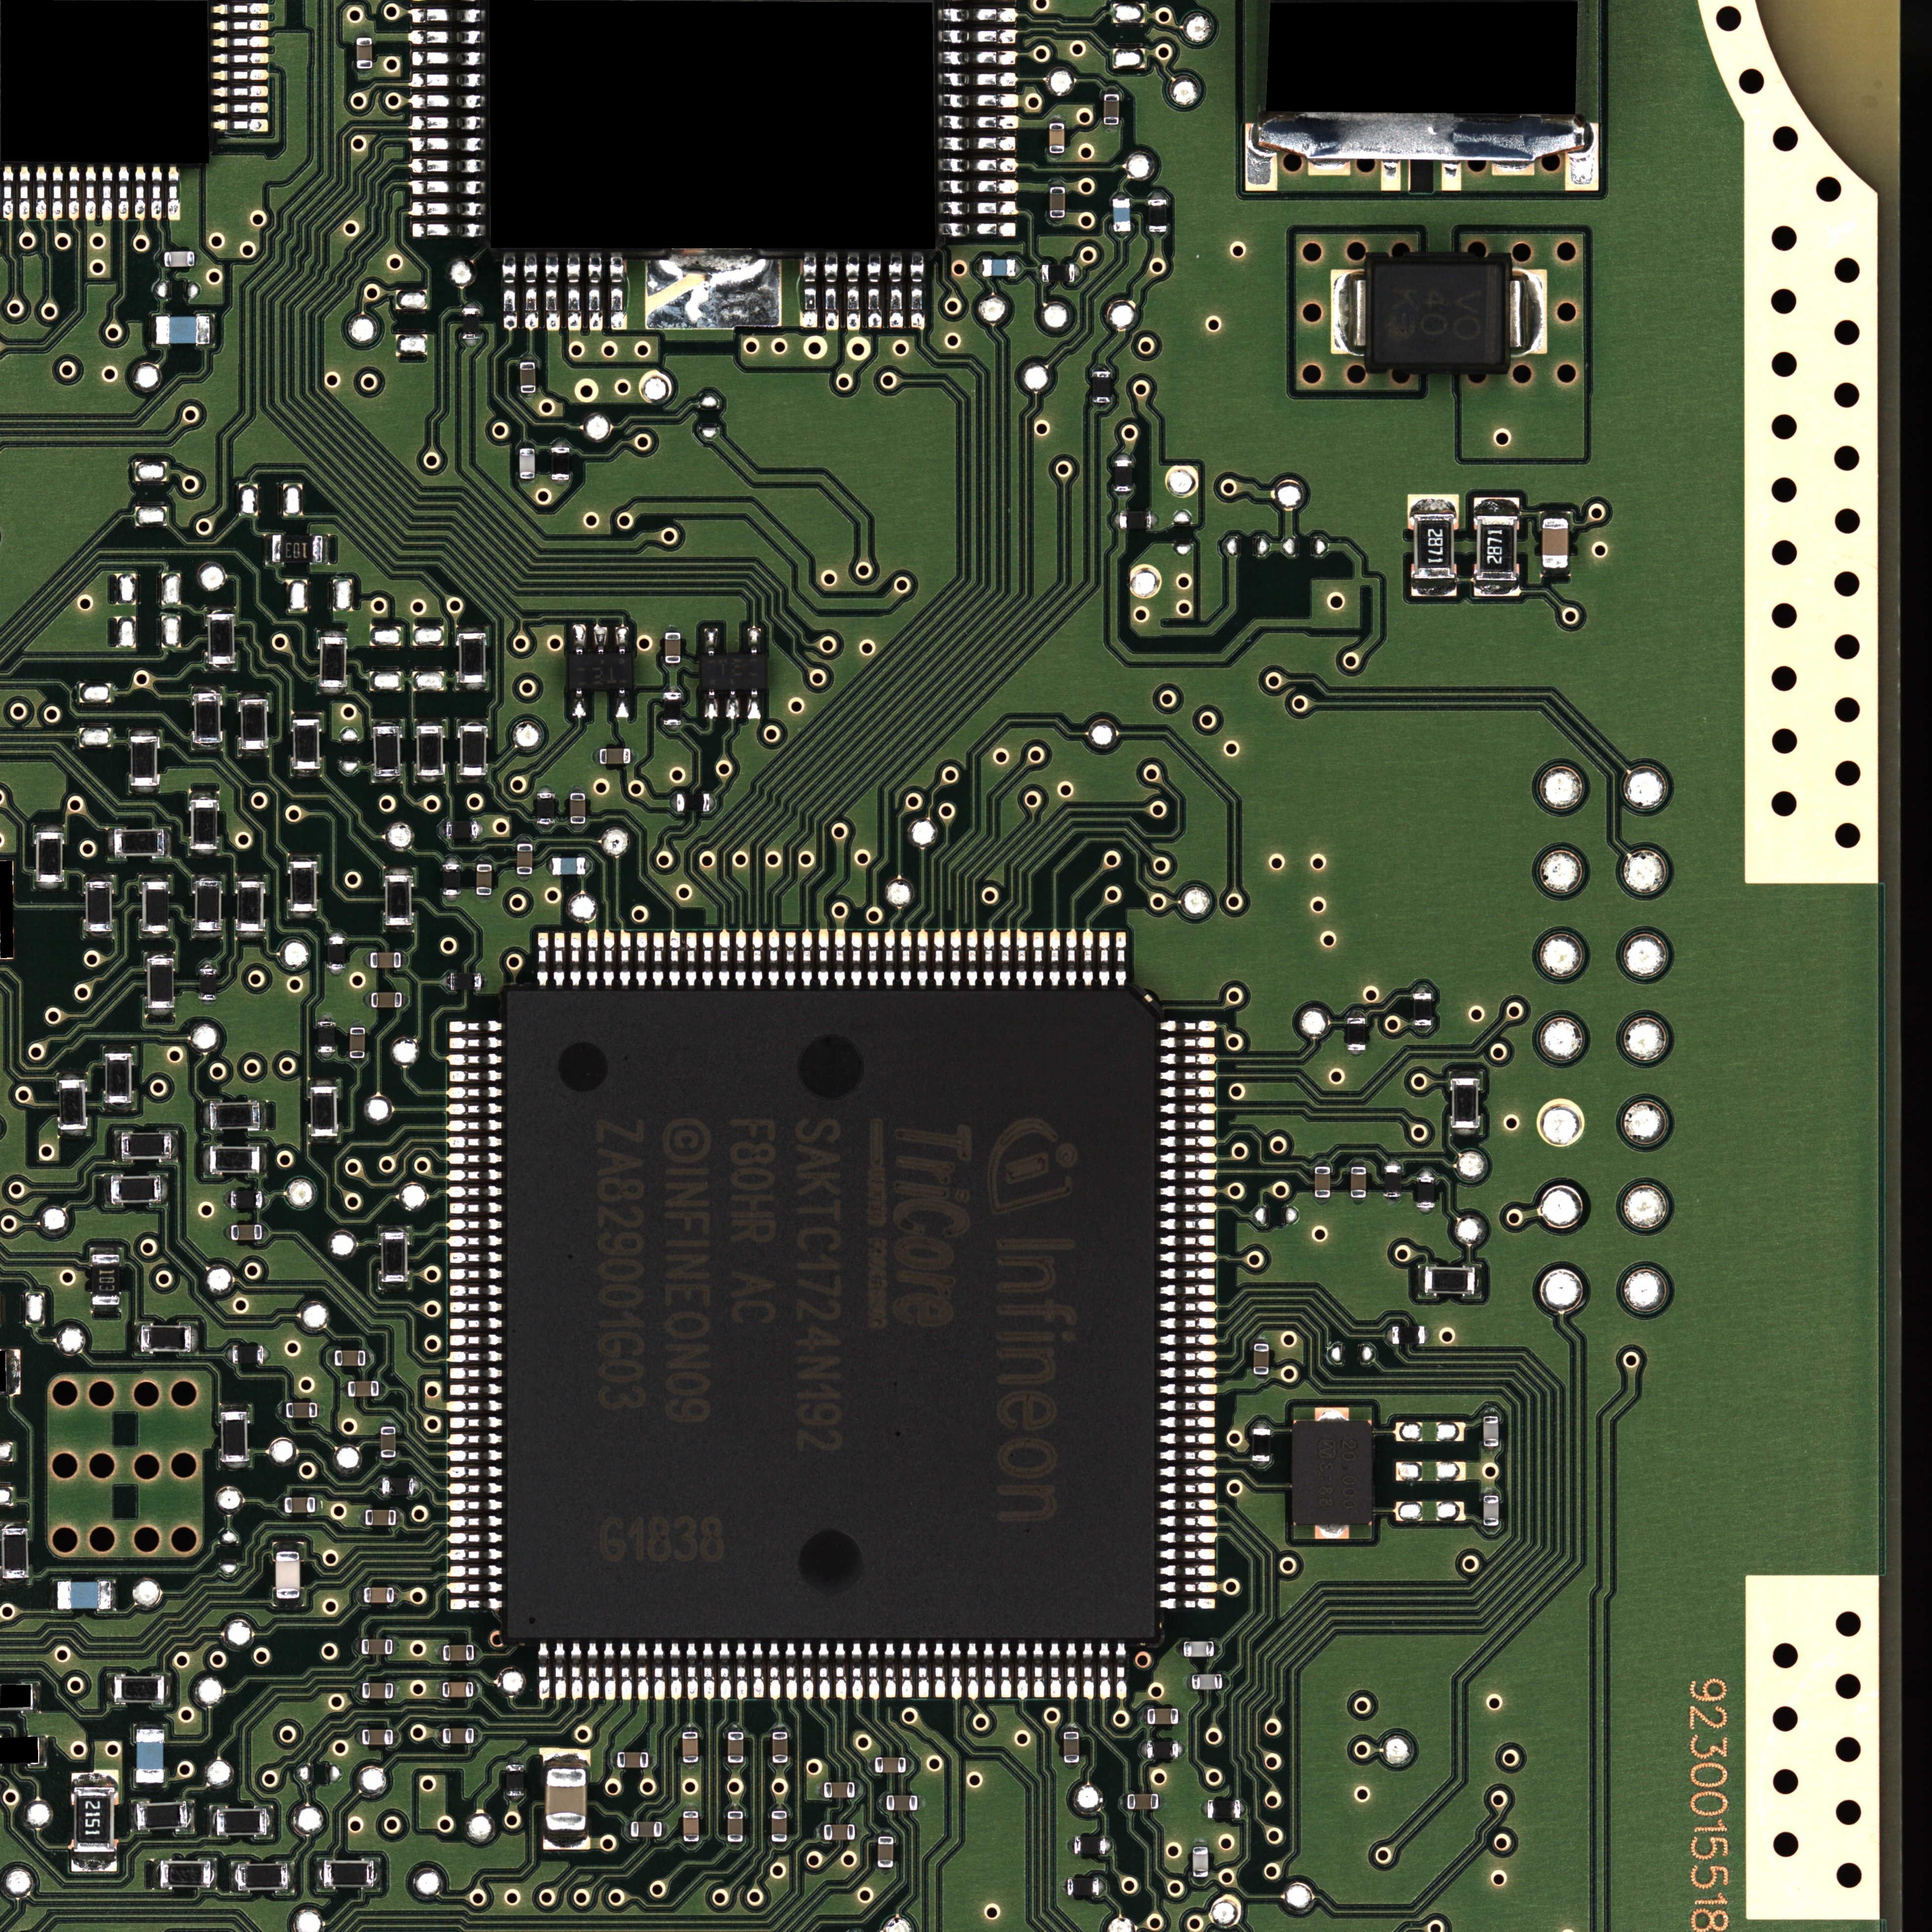Package: (501, 985, 1159, 1644), (1373, 264, 1502, 363), (1292, 1419, 1373, 1523), (1412, 513, 1454, 579), (74, 1787, 115, 1852), (1476, 517, 1516, 580), (545, 1769, 586, 1829), (701, 655, 766, 690), (568, 653, 632, 688), (156, 315, 209, 343), (1424, 1267, 1474, 1295), (58, 1582, 110, 1608), (136, 1730, 163, 1782), (115, 830, 165, 856), (272, 536, 322, 563), (320, 637, 347, 686), (460, 725, 487, 775), (131, 736, 157, 786), (373, 727, 400, 777), (221, 1412, 248, 1461), (92, 1254, 119, 1304), (142, 1325, 191, 1352), (2, 1529, 28, 1578), (122, 1132, 170, 1159), (211, 1146, 258, 1173), (138, 1803, 186, 1829), (115, 1675, 163, 1702), (218, 1808, 265, 1835), (211, 1102, 258, 1129), (239, 1863, 287, 1890), (1453, 1079, 1479, 1127), (143, 881, 168, 931), (87, 881, 111, 931), (386, 876, 410, 925), (196, 881, 221, 931), (191, 800, 216, 849), (460, 633, 485, 683), (149, 959, 173, 1008), (418, 725, 442, 775), (294, 720, 318, 770), (195, 694, 219, 743), (242, 699, 267, 748), (209, 614, 234, 663), (111, 1177, 161, 1201), (324, 1861, 373, 1886), (311, 1086, 336, 1136), (60, 1079, 85, 1129), (1543, 518, 1568, 568), (37, 833, 62, 881), (161, 1861, 209, 1886), (106, 1054, 131, 1102), (239, 881, 262, 931), (292, 862, 315, 911), (382, 1233, 405, 1281), (276, 1552, 299, 1598), (1042, 264, 1076, 283), (1092, 370, 1111, 403), (1414, 993, 1433, 1026), (198, 968, 218, 1000), (536, 793, 556, 824), (1148, 200, 1168, 232), (552, 856, 586, 874), (663, 692, 681, 725), (1113, 198, 1131, 232), (982, 258, 1016, 276), (1253, 1428, 1270, 1461), (1348, 1017, 1366, 1051), (327, 938, 345, 970), (678, 794, 709, 812), (552, 448, 570, 479), (446, 821, 478, 839), (462, 308, 479, 340), (449, 973, 481, 991), (382, 1477, 414, 1495), (232, 1346, 264, 1364), (230, 1191, 262, 1208), (1115, 460, 1132, 492), (1208, 1801, 1240, 1819), (1392, 1327, 1424, 1345), (1417, 1177, 1435, 1208), (1384, 1166, 1401, 1198), (1146, 1741, 1178, 1759), (1074, 1836, 1106, 1854), (442, 865, 460, 895), (357, 37, 373, 69), (476, 863, 492, 895), (665, 632, 681, 663), (771, 1810, 787, 1842), (334, 1350, 366, 1366), (442, 1645, 474, 1661), (442, 1729, 474, 1744), (508, 1764, 524, 1796), (318, 1021, 334, 1053), (1120, 513, 1152, 529), (1127, 1794, 1159, 1810), (1067, 1879, 1099, 1895), (600, 748, 630, 764), (517, 844, 533, 874), (165, 251, 195, 267), (520, 363, 536, 393), (370, 952, 400, 968), (372, 993, 402, 1008), (570, 794, 586, 824), (363, 1683, 393, 1698), (683, 1812, 699, 1842), (683, 1732, 699, 1762), (232, 1224, 262, 1240), (727, 1812, 743, 1842), (287, 1403, 317, 1419), (366, 1509, 396, 1525), (876, 1757, 906, 1773), (363, 1638, 393, 1654), (727, 1732, 743, 1762), (824, 1824, 855, 1840), (824, 1782, 855, 1798), (285, 1497, 315, 1513), (380, 1428, 396, 1458), (617, 1752, 648, 1767), (632, 1821, 662, 1836), (878, 1836, 893, 1867), (1049, 188, 1065, 218), (1049, 122, 1065, 152), (1104, 94, 1120, 124), (1192, 1674, 1223, 1690), (1350, 1168, 1366, 1198), (1184, 1642, 1214, 1658), (1063, 1732, 1079, 1762), (1483, 1495, 1499, 1525), (1483, 1415, 1499, 1445), (1192, 1847, 1208, 1877), (1148, 1709, 1178, 1725), (1315, 1168, 1330, 1198), (364, 1587, 393, 1603), (1254, 1343, 1269, 1375), (520, 448, 534, 478), (773, 1732, 787, 1762), (363, 1730, 393, 1744), (442, 1683, 472, 1697), (350, 1028, 364, 1058), (349, 1382, 379, 1396), (886, 1796, 916, 1810)
Solder: (1246, 113, 1599, 189), (646, 258, 782, 329), (1511, 269, 1546, 356), (1330, 271, 1366, 356), (524, 251, 540, 331), (502, 249, 518, 329), (938, 71, 1016, 87), (610, 251, 626, 329), (589, 251, 603, 331), (568, 251, 582, 331), (547, 251, 561, 331), (939, 7, 1017, 21), (939, 51, 1017, 65), (939, 94, 1017, 108), (939, 115, 1017, 129), (939, 136, 1017, 150), (939, 157, 1017, 172), (939, 179, 1017, 193), (939, 202, 1017, 216), (939, 223, 1017, 237), (939, 28, 1016, 42), (801, 253, 816, 329), (824, 253, 839, 329), (410, 9, 485, 23), (410, 30, 485, 44), (412, 51, 485, 65), (412, 73, 485, 87), (412, 94, 485, 108), (412, 115, 485, 129), (412, 136, 485, 150), (412, 159, 485, 173), (412, 180, 485, 195), (412, 202, 485, 216), (412, 223, 485, 237), (541, 1748, 591, 1767), (911, 251, 924, 327), (890, 251, 902, 327), (847, 253, 860, 329), (869, 253, 881, 327), (71, 1852, 117, 1872), (543, 1831, 589, 1851), (1408, 495, 1456, 513), (1474, 497, 1520, 515), (1159, 1415, 1215, 1430), (1159, 1366, 1215, 1380), (1159, 1564, 1215, 1578), (1159, 1465, 1215, 1479), (448, 1399, 502, 1414), (448, 1415, 502, 1430), (448, 1382, 502, 1396), (448, 1152, 502, 1166), (448, 1217, 502, 1231), (448, 1136, 502, 1150), (448, 1102, 502, 1116), (448, 1449, 502, 1463), (1161, 1168, 1215, 1182), (1161, 1217, 1215, 1231), (1161, 1267, 1215, 1281), (1161, 1316, 1215, 1330), (1161, 1118, 1215, 1132), (1161, 1069, 1215, 1083), (1161, 1514, 1215, 1529), (449, 1300, 502, 1315), (449, 1366, 502, 1380), (449, 1251, 502, 1265), (449, 1201, 502, 1215), (449, 1350, 502, 1364), (449, 1548, 502, 1562), (449, 1564, 502, 1578), (449, 1499, 502, 1513), (449, 1514, 502, 1529), (449, 1465, 502, 1479), (73, 1771, 119, 1787), (5, 1348, 21, 1394), (449, 1053, 501, 1067), (702, 1642, 715, 1700), (752, 1642, 764, 1700), (1081, 1642, 1093, 1700), (1115, 1642, 1127, 1700), (752, 927, 764, 985), (916, 927, 929, 985), (901, 927, 913, 985), (885, 927, 897, 985), (1412, 580, 1456, 596), (587, 1644, 600, 1700), (570, 1644, 582, 1700), (603, 1644, 616, 1700), (619, 1644, 632, 1700), (635, 1644, 648, 1700), (653, 1644, 665, 1700), (554, 1644, 566, 1700), (538, 1644, 550, 1700), (669, 1644, 681, 1700), (685, 1644, 697, 1700), (950, 1644, 962, 1700), (966, 1644, 978, 1700), (718, 1644, 731, 1700), (883, 1644, 895, 1700), (734, 1644, 747, 1700), (784, 1644, 796, 1700), (768, 1644, 780, 1700), (801, 1644, 814, 1700), (817, 1644, 830, 1700), (833, 1644, 846, 1700), (851, 1644, 863, 1700), (867, 1644, 879, 1700), (1159, 1037, 1215, 1049), (1159, 1399, 1215, 1412), (1159, 1384, 1215, 1396), (1159, 1350, 1215, 1362), (1159, 1433, 1215, 1445), (1159, 1582, 1215, 1594), (1065, 1644, 1077, 1700), (1099, 1644, 1111, 1700), (1159, 1548, 1215, 1560), (1159, 1449, 1215, 1461), (538, 929, 550, 985), (554, 929, 566, 985), (570, 929, 582, 985), (587, 929, 600, 985), (603, 929, 616, 985), (619, 929, 632, 985), (635, 929, 648, 985), (653, 929, 665, 985), (669, 929, 681, 985), (685, 929, 697, 985), (702, 929, 715, 985), (734, 929, 747, 985), (718, 929, 731, 985), (768, 929, 780, 985), (784, 929, 796, 985), (801, 929, 814, 985), (817, 929, 830, 985), (833, 929, 846, 985), (851, 929, 863, 985), (867, 929, 879, 985), (1083, 927, 1095, 984), (1067, 927, 1079, 984), (1049, 927, 1062, 984), (1016, 927, 1028, 984), (1000, 927, 1012, 984), (984, 927, 996, 984), (966, 927, 978, 984), (950, 927, 962, 984), (934, 927, 947, 984), (1115, 929, 1127, 985), (1099, 929, 1111, 985), (448, 1169, 502, 1182), (448, 1185, 502, 1198), (448, 1120, 502, 1132), (448, 1433, 502, 1445), (448, 1532, 502, 1545), (932, 1644, 945, 1698), (916, 1644, 929, 1698), (901, 1644, 913, 1698), (1161, 1185, 1215, 1198), (1161, 1201, 1215, 1214), (1161, 1152, 1215, 1164), (1161, 1251, 1215, 1263), (1161, 1300, 1215, 1313), (1161, 1235, 1215, 1247), (1161, 1019, 1215, 1031), (1161, 1284, 1215, 1297), (1161, 1334, 1215, 1346), (1161, 1102, 1215, 1115), (1161, 1086, 1215, 1099), (1161, 1136, 1215, 1148), (1161, 1053, 1215, 1065), (984, 1644, 996, 1698), (1000, 1644, 1012, 1698), (1016, 1644, 1028, 1698), (1031, 1644, 1044, 1698), (1049, 1644, 1062, 1698), (1161, 1598, 1215, 1610), (1161, 1499, 1215, 1511), (1161, 1483, 1215, 1495), (1161, 1532, 1215, 1545), (1474, 582, 1522, 596), (449, 1284, 502, 1297), (449, 1269, 502, 1281), (449, 1037, 502, 1049), (449, 1021, 502, 1033), (449, 1235, 502, 1247), (449, 1318, 502, 1330), (449, 1334, 502, 1346), (449, 1086, 502, 1099), (449, 1582, 502, 1594), (449, 1598, 502, 1610), (449, 1483, 502, 1495), (168, 166, 180, 219), (449, 1070, 501, 1083), (211, 4, 269, 14), (211, 37, 269, 48), (211, 87, 269, 97), (211, 120, 269, 131), (1033, 927, 1044, 984), (212, 53, 269, 64), (212, 103, 269, 113), (134, 166, 145, 219), (119, 166, 129, 219), (101, 166, 111, 219), (69, 166, 80, 219), (53, 166, 64, 219), (35, 166, 46, 219), (85, 166, 96, 219), (19, 166, 30, 219), (211, 21, 269, 30), (211, 71, 269, 80), (1315, 1525, 1350, 1539), (571, 625, 587, 655), (1315, 1407, 1348, 1421), (152, 166, 161, 219), (4, 166, 12, 219), (614, 690, 630, 718), (593, 625, 609, 653), (571, 690, 587, 718), (747, 690, 761, 720), (614, 626, 630, 653), (747, 626, 761, 655), (725, 692, 740, 720), (704, 628, 718, 655), (704, 692, 718, 718), (317, 686, 349, 695), (315, 1858, 324, 1890), (163, 1674, 172, 1706), (287, 1861, 295, 1893), (230, 1861, 239, 1893), (39, 1736, 48, 1767), (34, 1681, 42, 1713), (288, 853, 318, 862), (129, 786, 159, 794), (205, 663, 235, 672), (219, 1403, 249, 1412), (272, 1598, 303, 1606), (209, 1806, 218, 1836), (152, 1859, 161, 1890), (186, 1801, 195, 1831), (237, 872, 265, 881), (193, 872, 221, 881), (386, 865, 414, 874), (35, 881, 64, 890), (104, 1102, 133, 1111), (380, 1281, 409, 1290), (1476, 1263, 1483, 1299), (209, 313, 216, 347), (258, 1143, 265, 1177), (104, 1173, 111, 1207), (203, 1143, 211, 1177), (265, 1805, 272, 1838), (1417, 1265, 1424, 1299), (1449, 1070, 1483, 1077), (147, 950, 173, 959), (191, 791, 218, 800), (147, 1008, 173, 1017), (221, 1461, 248, 1470), (191, 686, 223, 694), (115, 1131, 122, 1162), (191, 1322, 198, 1353), (134, 1323, 142, 1355), (211, 1858, 218, 1890), (131, 1801, 138, 1833), (373, 1858, 380, 1890), (165, 828, 172, 858), (193, 743, 223, 750), (317, 630, 347, 637), (58, 1131, 88, 1138), (260, 1100, 267, 1131), (203, 1100, 211, 1131), (106, 1674, 113, 1704), (292, 713, 320, 720), (290, 911, 318, 918), (292, 770, 320, 777), (142, 874, 170, 881), (458, 683, 487, 690), (416, 718, 444, 725), (207, 607, 235, 614), (239, 692, 267, 699), (142, 931, 170, 938), (193, 931, 221, 938), (108, 828, 115, 856), (265, 534, 272, 563), (237, 931, 265, 938), (104, 1046, 133, 1053), (58, 1072, 87, 1079), (90, 1246, 119, 1253), (51, 1580, 58, 1608), (1541, 568, 1569, 575), (1453, 1129, 1481, 1136), (322, 536, 329, 563), (458, 626, 485, 633), (85, 874, 111, 881), (131, 729, 157, 736), (191, 849, 218, 856), (241, 748, 267, 755), (85, 931, 111, 938), (460, 775, 487, 782), (310, 1079, 336, 1086), (92, 1306, 119, 1313), (310, 1136, 336, 1143), (274, 1543, 301, 1550), (150, 313, 156, 347), (37, 824, 62, 832), (418, 775, 442, 782), (375, 775, 400, 782), (2, 1522, 27, 1529), (2, 1578, 27, 1585), (161, 1173, 166, 1205), (172, 1131, 177, 1162), (134, 1723, 166, 1729), (134, 1783, 165, 1789), (1539, 511, 1569, 517), (373, 720, 402, 725), (384, 925, 412, 931), (380, 1226, 409, 1231), (460, 720, 487, 725), (110, 1582, 115, 1608), (200, 961, 218, 968), (200, 1000, 218, 1007), (318, 1053, 334, 1060), (414, 1479, 421, 1495), (683, 1805, 699, 1812), (508, 1796, 524, 1803), (1414, 985, 1430, 993), (1415, 1026, 1431, 1033), (276, 1499, 285, 1511), (280, 1403, 287, 1417), (359, 1511, 366, 1525), (554, 441, 568, 448), (610, 1753, 617, 1767), (1254, 1461, 1269, 1468), (225, 1191, 230, 1208), (264, 1346, 269, 1364), (356, 1640, 363, 1652), (540, 824, 552, 832), (977, 262, 984, 274), (464, 303, 479, 308), (464, 340, 479, 345), (318, 1017, 334, 1023), (552, 479, 568, 485), (771, 1727, 787, 1732), (727, 1764, 743, 1769), (508, 1759, 524, 1764), (727, 1727, 743, 1732), (727, 1805, 743, 1810), (1115, 455, 1131, 460), (1093, 403, 1109, 409), (1115, 492, 1131, 497), (1348, 1051, 1364, 1056), (1387, 1327, 1392, 1343), (1348, 1012, 1364, 1017), (1417, 1208, 1433, 1214), (1424, 1327, 1430, 1343), (1099, 1879, 1104, 1895), (1062, 1879, 1067, 1895), (357, 34, 372, 39), (357, 67, 372, 73), (444, 858, 458, 863), (329, 970, 343, 975), (441, 823, 446, 837), (364, 1352, 370, 1366), (262, 1192, 267, 1207), (366, 993, 372, 1007), (364, 954, 370, 968), (379, 1382, 384, 1396), (226, 1226, 232, 1240), (350, 1023, 364, 1028), (317, 1403, 322, 1417), (393, 1640, 398, 1654), (437, 1683, 442, 1697), (377, 1479, 382, 1493), (520, 356, 534, 361), (594, 748, 600, 763), (665, 725, 679, 731), (630, 748, 635, 763), (665, 626, 679, 632), (773, 1764, 787, 1769), (683, 1762, 697, 1767), (773, 1842, 787, 1847), (683, 1727, 697, 1732), (870, 1759, 876, 1773), (648, 1753, 653, 1767), (916, 1796, 922, 1810), (819, 1783, 824, 1798), (662, 1822, 667, 1836), (626, 1822, 632, 1836), (773, 1805, 787, 1810), (819, 1826, 824, 1840), (1150, 193, 1164, 198), (1152, 232, 1166, 237), (1115, 232, 1129, 237), (1095, 366, 1109, 372), (1037, 265, 1042, 280), (1352, 1198, 1366, 1203), (1254, 1422, 1269, 1428), (1419, 1171, 1433, 1177), (1178, 1642, 1184, 1656), (1214, 1642, 1219, 1656), (1187, 1675, 1192, 1690), (1143, 1709, 1148, 1723), (1178, 1743, 1184, 1757), (1223, 1675, 1228, 1690), (1203, 1803, 1208, 1817), (1141, 1743, 1146, 1757), (1069, 1838, 1074, 1852), (444, 975, 449, 989), (446, 895, 458, 901), (331, 931, 343, 936), (402, 994, 407, 1007), (402, 954, 407, 966), (343, 1384, 349, 1396), (262, 1226, 267, 1238), (329, 1352, 334, 1364), (474, 1647, 479, 1660), (357, 1684, 363, 1697), (437, 1647, 442, 1660), (359, 1589, 364, 1601), (357, 1730, 363, 1743), (393, 1684, 398, 1697), (315, 1499, 320, 1511), (437, 1729, 442, 1741), (393, 1730, 398, 1743), (472, 1729, 478, 1741), (393, 1589, 398, 1601), (547, 860, 552, 872), (518, 839, 531, 844), (586, 860, 591, 872), (518, 874, 531, 879), (571, 824, 584, 830), (538, 786, 550, 791), (709, 796, 715, 809), (571, 787, 584, 793), (478, 895, 490, 901), (667, 663, 679, 669), (685, 1842, 697, 1847), (729, 1842, 741, 1847), (855, 1783, 860, 1796), (855, 1826, 860, 1838), (879, 1831, 892, 1836), (881, 1798, 886, 1810), (1016, 262, 1021, 274), (1051, 182, 1063, 188), (1051, 218, 1063, 223), (1115, 193, 1127, 198), (1051, 119, 1063, 124), (1076, 267, 1081, 280), (1152, 515, 1157, 527), (1115, 515, 1120, 527), (1316, 1161, 1329, 1166), (1316, 1198, 1329, 1203), (1194, 1877, 1207, 1882), (1065, 1762, 1077, 1767), (1159, 1796, 1164, 1808), (1065, 1727, 1077, 1732), (1194, 1842, 1207, 1847), (1240, 1803, 1246, 1815), (1106, 1840, 1111, 1852), (1484, 1490, 1497, 1495), (1484, 1525, 1497, 1530), (1484, 1447, 1497, 1453), (481, 975, 487, 987), (1106, 124, 1118, 129), (1106, 88, 1118, 94), (228, 1346, 232, 1362), (380, 1458, 396, 1461), (472, 1684, 478, 1695), (161, 251, 165, 265), (195, 251, 198, 265), (380, 1422, 395, 1426), (350, 1058, 364, 1062), (396, 1511, 400, 1525), (520, 444, 534, 448), (665, 688, 679, 692), (672, 796, 676, 810), (520, 479, 534, 483), (478, 823, 481, 837), (1254, 1339, 1269, 1343), (1352, 1162, 1366, 1166), (1254, 1375, 1269, 1378), (1385, 1198, 1399, 1201), (1385, 1161, 1399, 1164), (522, 393, 534, 396), (478, 860, 490, 863), (879, 1868, 892, 1872), (906, 1759, 909, 1771), (1051, 152, 1063, 156), (1178, 1711, 1182, 1723), (1123, 1796, 1127, 1808), (1484, 1412, 1497, 1415)
